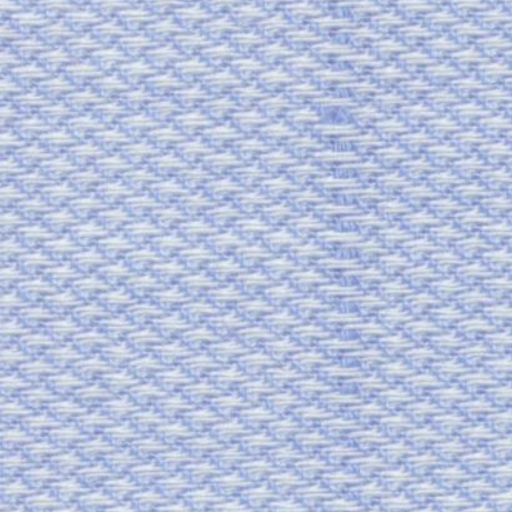TuoSha: (289, 15, 404, 503)
